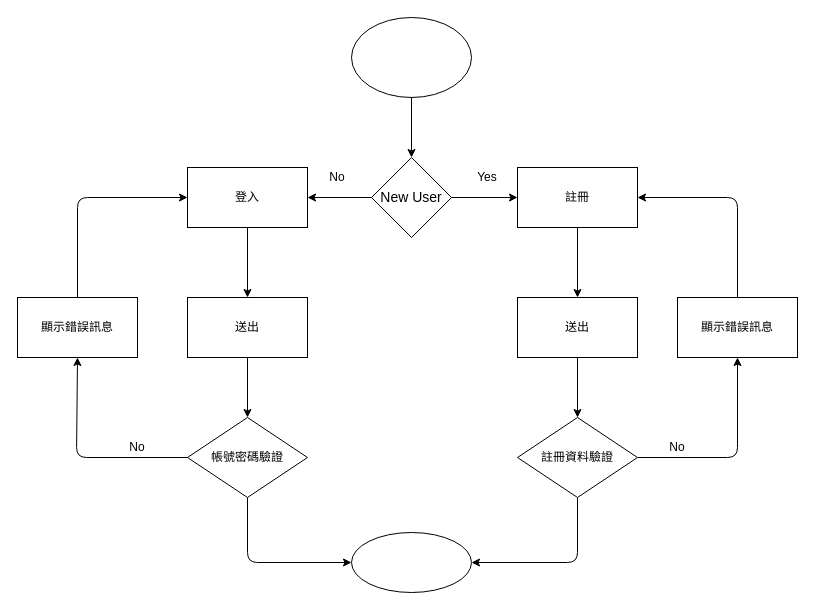
Some shapes in this 815 by 610 pixel diagram are drawn without their labels. Here are the shapes that lost their labels. From the top down, the centre of each, then its label:
At (x=411, y=57): "start".
At (x=411, y=562): "進入To Do List畫面".
